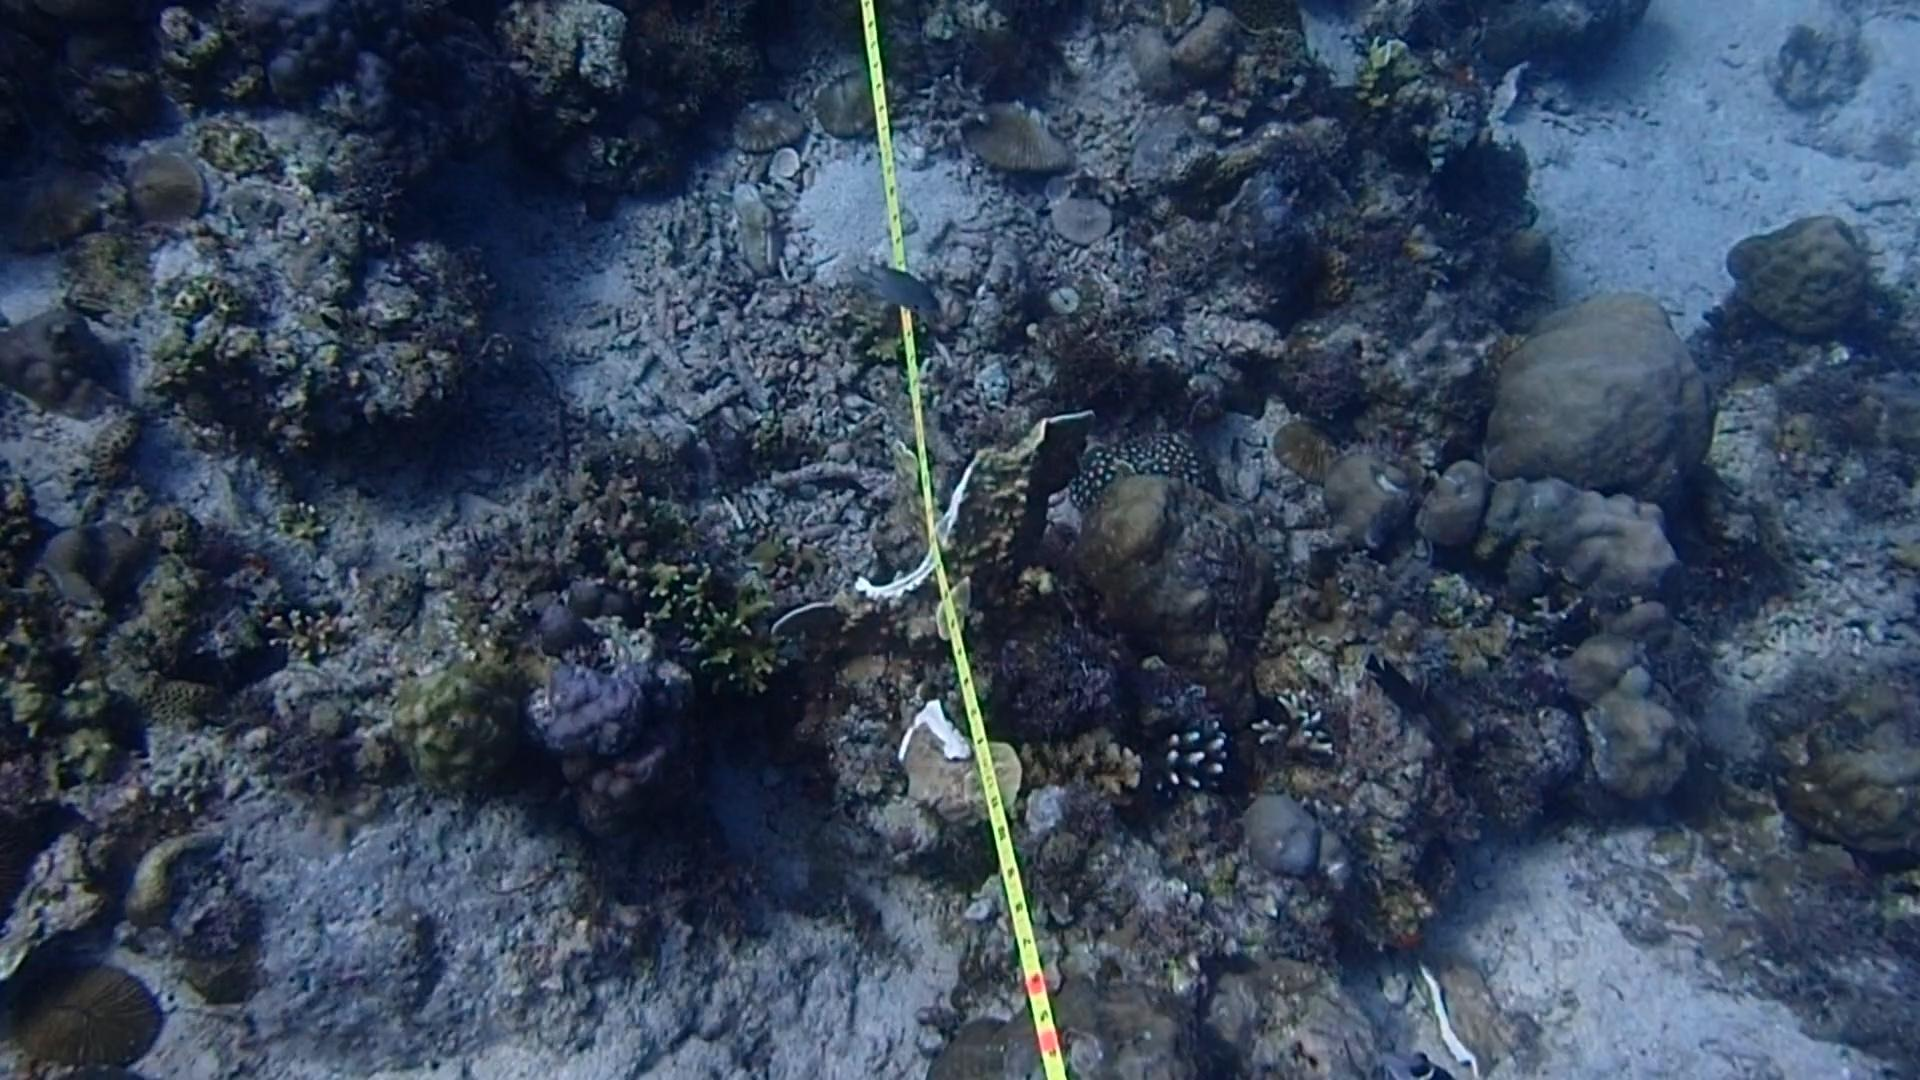Light Fish: (836, 243, 948, 319)
